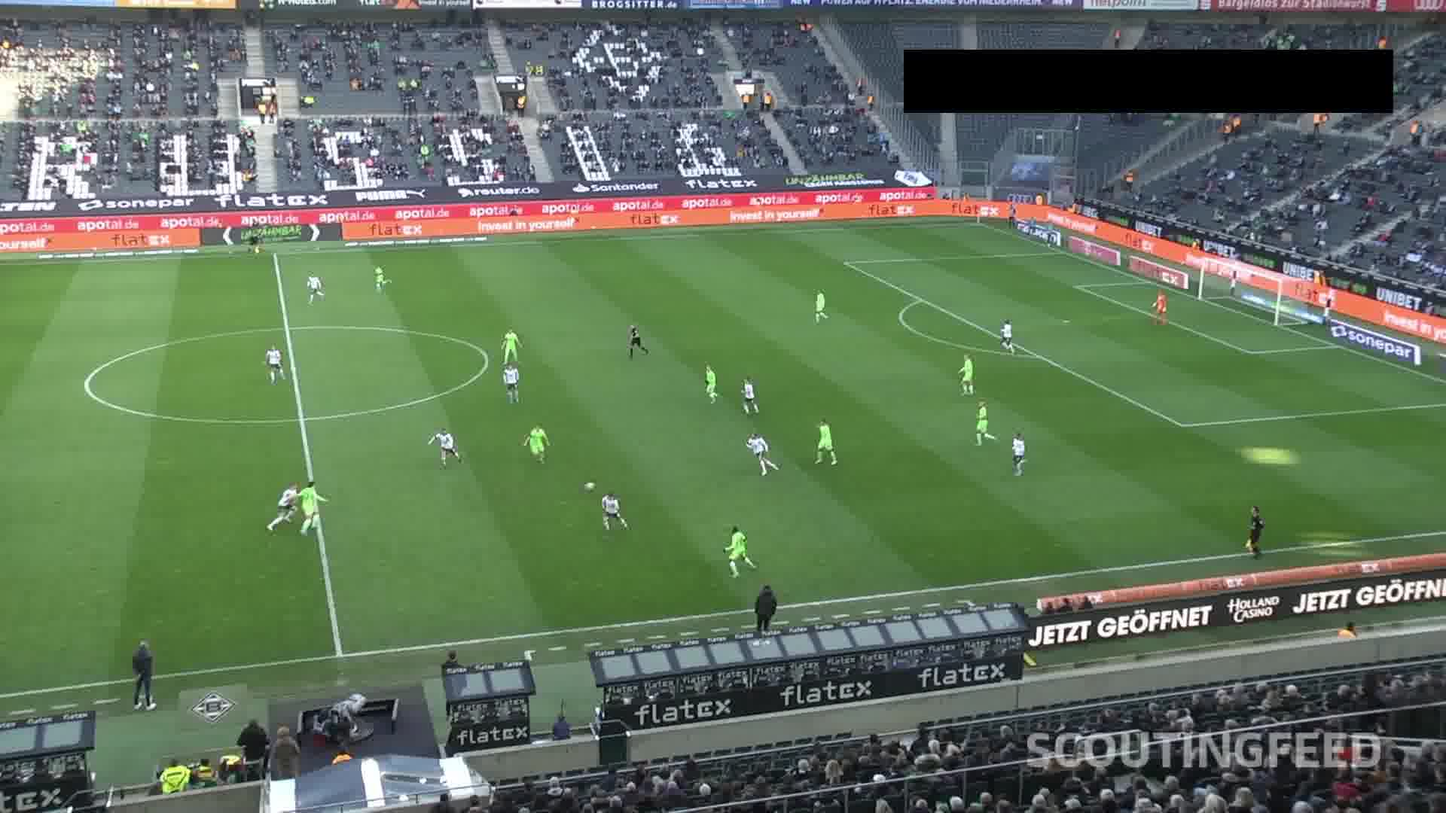ball: (581, 479, 600, 492)
coach_staff: (739, 583, 788, 659), (129, 632, 164, 715), (441, 639, 471, 724)
goalkeeper: (1146, 285, 1170, 324)
player: (719, 521, 761, 581), (424, 422, 459, 468), (808, 418, 837, 468), (744, 434, 778, 474), (521, 420, 551, 464), (260, 345, 292, 385), (271, 478, 297, 527), (491, 363, 523, 401), (594, 491, 626, 528), (299, 479, 320, 533), (954, 349, 978, 396), (969, 399, 994, 444), (698, 358, 722, 404), (1008, 424, 1029, 472), (994, 320, 1020, 353), (502, 324, 523, 364), (742, 375, 761, 414), (365, 262, 388, 294), (301, 272, 323, 304), (812, 286, 827, 324)
referee: (1240, 502, 1265, 557), (625, 322, 649, 359), (242, 221, 264, 258)
